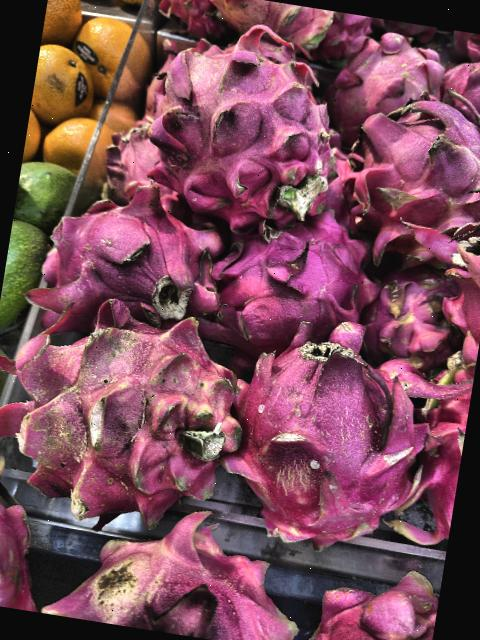buah-naga-belum-matang: (0, 288, 252, 511), (47, 499, 319, 640), (200, 0, 331, 49)
buah-naga-matang: (234, 314, 439, 547), (138, 27, 358, 229), (40, 172, 234, 336), (341, 76, 480, 271), (202, 207, 374, 356), (295, 538, 445, 640), (406, 344, 478, 546), (328, 14, 446, 134), (356, 252, 450, 362), (0, 449, 59, 611), (431, 34, 480, 124)
